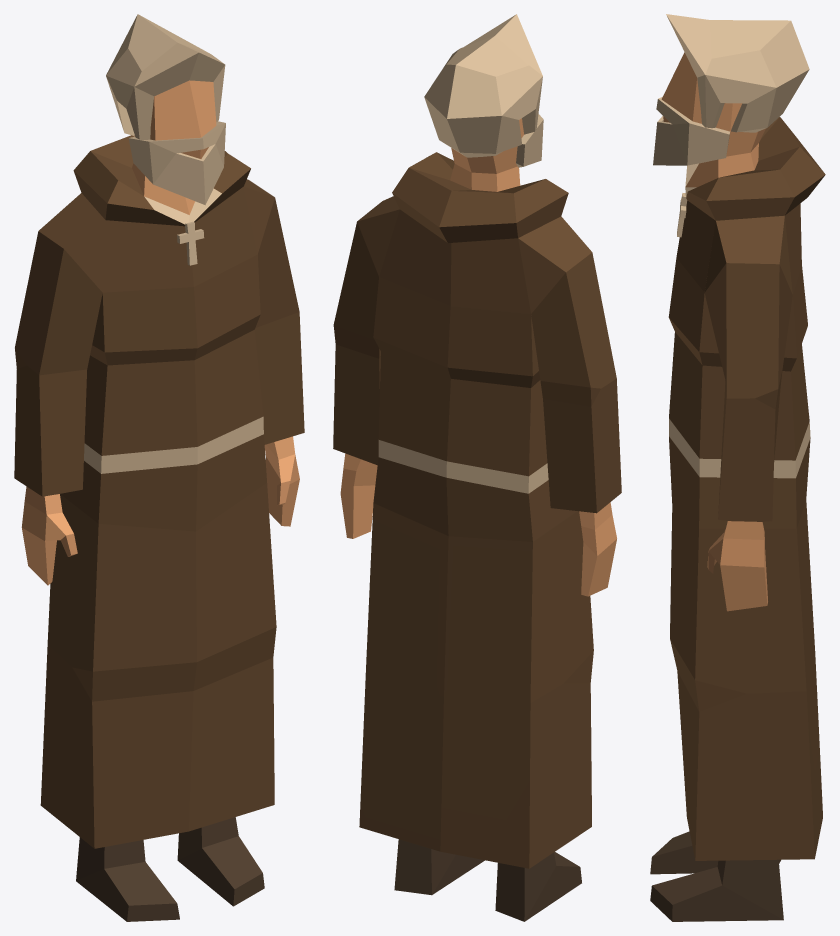
Rendered from man-monk-old.glb.
The picture shows the model from 3 angles, left to right: view 1: azimuth 30°, elevation 25°; view 2: azimuth 150°, elevation 25°; view 3: azimuth 270°, elevation 25°; orthographic projection. The views are drawn at different scales.
Parts seen in each view (by area): view 1: man-monk-old; view 2: man-monk-old; view 3: man-monk-old.
Part boxes in pixels (x1,y1,x2,y2): man-monk-old: (14,14,304,921); man-monk-old: (333,14,621,921); man-monk-old: (650,14,825,921).
Size of the model in its own units: 0.599 by 1.84 by 0.3359.
Materials: 1 (1 with a texture image).
